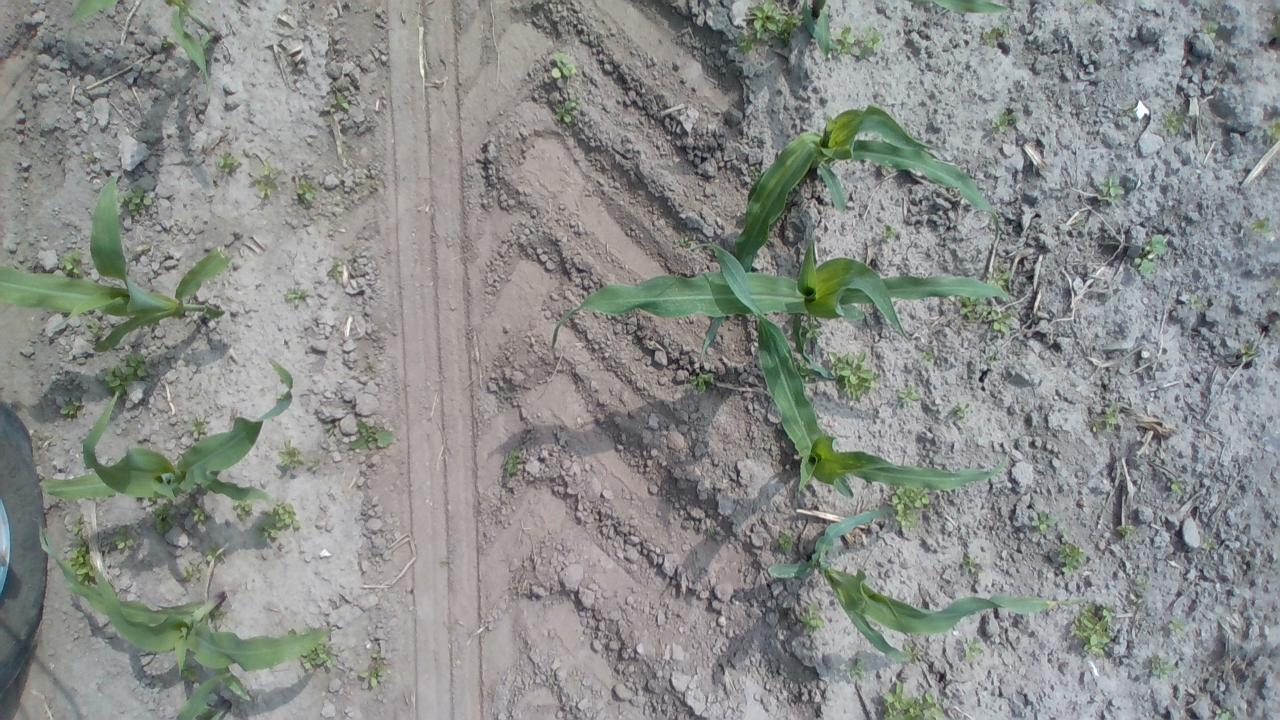Maize: (699, 229, 1011, 503), (676, 110, 1007, 357), (552, 230, 1018, 358), (32, 513, 331, 709), (764, 504, 1080, 664), (2, 172, 228, 350), (28, 358, 296, 502), (67, 0, 222, 86), (798, 0, 1006, 62), (172, 678, 230, 720)
Weeds: (734, 1, 804, 55), (826, 348, 879, 402), (1070, 600, 1117, 658), (880, 680, 948, 719), (100, 349, 152, 397), (958, 292, 1014, 335), (64, 514, 96, 587), (828, 23, 886, 63), (256, 498, 302, 543), (890, 485, 931, 528), (348, 417, 396, 452), (1132, 234, 1168, 278), (1055, 534, 1087, 577), (544, 40, 580, 78), (118, 182, 156, 217), (300, 640, 338, 672), (357, 650, 388, 688), (252, 160, 280, 200), (796, 601, 826, 636), (151, 500, 179, 535), (984, 262, 1014, 294), (1090, 402, 1120, 433), (988, 109, 1022, 136), (292, 174, 320, 205), (276, 438, 304, 468), (552, 96, 580, 125), (1097, 173, 1127, 200), (60, 247, 84, 280), (980, 22, 1009, 48), (1031, 508, 1058, 534), (959, 635, 986, 661), (688, 370, 716, 395), (1162, 105, 1186, 134), (502, 446, 524, 477), (1150, 655, 1176, 681), (895, 383, 920, 410), (112, 525, 138, 550), (794, 357, 818, 384), (216, 150, 242, 174), (800, 316, 824, 342), (900, 642, 926, 666), (230, 497, 256, 520), (284, 286, 310, 308), (844, 657, 866, 683), (1245, 216, 1273, 236), (776, 530, 797, 554), (84, 314, 105, 338), (962, 554, 982, 578), (58, 398, 82, 418), (189, 415, 207, 440), (187, 505, 207, 526), (1116, 521, 1136, 541), (1202, 20, 1220, 41), (1167, 618, 1188, 636), (673, 234, 695, 250), (1262, 118, 1276, 143), (1168, 477, 1186, 496), (1237, 342, 1256, 360), (952, 402, 972, 418), (330, 258, 344, 280), (919, 350, 935, 369), (179, 564, 196, 581), (205, 544, 222, 561), (1214, 705, 1234, 719), (333, 92, 349, 109), (881, 224, 898, 240), (160, 33, 176, 49), (985, 352, 1000, 368), (748, 164, 762, 180), (707, 524, 720, 540), (323, 422, 339, 435), (1190, 296, 1204, 310), (1136, 576, 1150, 589), (990, 210, 1001, 226), (83, 152, 95, 162), (1124, 104, 1134, 116), (1080, 0, 1096, 7)
